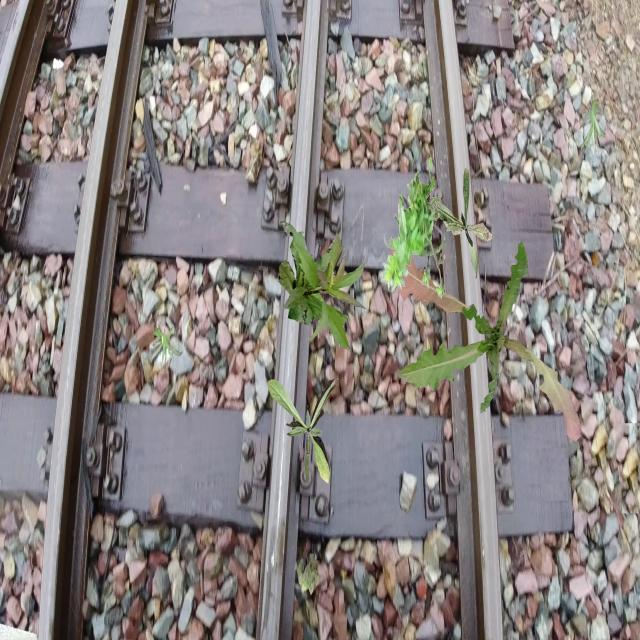Plant: (389, 239, 582, 442), (279, 221, 368, 351), (381, 156, 446, 300), (267, 377, 338, 485), (431, 167, 495, 279), (579, 99, 606, 156), (150, 324, 182, 370), (294, 553, 320, 596)
